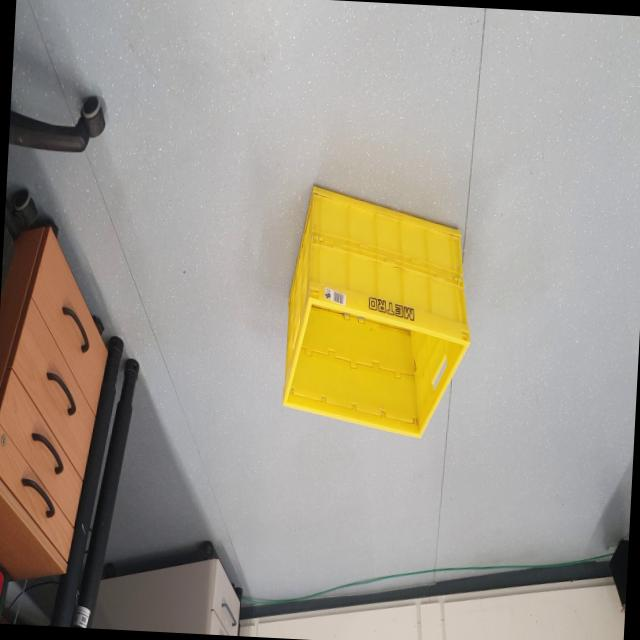box: (276, 171, 490, 455)
